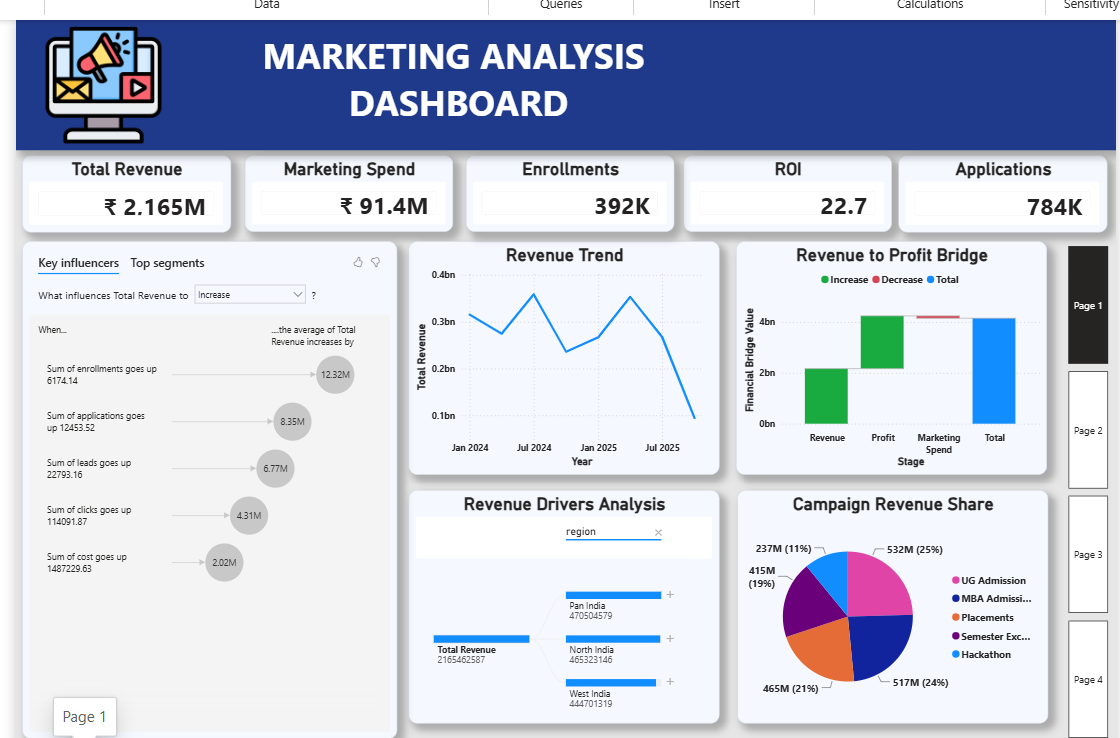

Layout of this report page (visuals, bound fields, positions):
{"tool":"powerbi","page":{"name":"Page 1","canvas":[1500,1000],"ordinal":0},"visuals":[{"type":"textbox","box":[63.3,0,196.7,103.3],"z":0},{"type":"cardVisual","title":"Marketing Spend","fields":{"Data":["campaign_performance_clean.Total Cost"]},"box":[311.9,184.1,284,105],"z":1000},{"type":"cardVisual","title":"ROI","fields":{"Data":["campaign_performance_clean.ROI %"]},"box":[910,184.1,284,105],"z":2000},{"type":"cardVisual","title":"Applications","fields":{"Data":["campaign_performance_clean.Total Applications"]},"box":[1203.1,184.1,284.6,105.7],"z":3000},{"type":"pieChart","title":"Campaign Revenue Share","fields":{"Category":["campaign_performance_clean.campaign_name"],"Y":["campaign_performance_clean.Total Revenue"]},"box":[983.3,640.8,424.3,318.7],"z":4000},{"type":"lineChart","title":"Revenue Trend","fields":{"Y":["campaign_performance_clean.Total Revenue"],"Category":["campaign_performance_clean.campaign_date.Variation.Date Hierarchy.Year","campaign_performance_clean.campaign_date.Variation.Date Hierarchy.Quarter"]},"box":[535.1,301.6,424.3,318.7],"z":5000},{"type":"decompositionTreeVisual","title":"Revenue Drivers Analysis","fields":{"Analyze":["campaign_performance_clean.Total Revenue"],"ExplainBy":["campaign_performance_clean.region","campaign_performance_clean.campaign_name","campaign_performance_clean.platform","campaign_performance_clean.target_audience"]},"box":[535.1,640.8,424,318],"z":6000},{"type":"cardVisual","title":"Total Revenue ","fields":{"Data":["campaign_performance_clean.Total Revenue"]},"box":[8.5,184.1,284.6,105.7],"z":8000},{"type":"cardVisual","title":"Enrollments","fields":{"Data":["campaign_performance_clean.Total Enrollments"]},"box":[613.5,184.1,284,105],"z":9000},{"type":"waterfallChart","title":"Revenue to Profit Bridge","fields":{"Category":["Financial_Bridge.Stage"],"Y":["Financial_Bridge.Financial Bridge Value"]},"box":[981.6,301.6,424.3,318.7],"z":10000},{"type":"textbox","box":[0,0,1499.7,177.2],"z":11000},{"type":"image","box":[15.3,6.8,207.9,163.6],"z":12000},{"type":"textbox","box":[211.3,10.2,783.9,173.8],"z":13000},{"type":"keyDriversVisual","fields":{"Target":["campaign_performance_clean.Total Revenue"],"ExplainBy":["campaign_performance_clean.region","Sum(campaign_performance_clean.clicks)","Sum(campaign_performance_clean.enrollments)","Sum(campaign_performance_clean.applications)","Sum(campaign_performance_clean.leads)","Sum(campaign_performance_clean.cost)","campaign_performance_clean.campaign_name","campaign_performance_clean.target_audience","campaign_performance_clean.platform"]},"box":[8.5,301.6,511.3,678.3],"z":14000},{"type":"pageNavigator","box":[1434.9,308.5,54.5,671.4],"z":14001}]}

Visuals, with their boxes in screenshot pixels (x1, y1, x2, y2):
textbox: <box>66,18,210,93</box>
"Marketing Spend" cardVisual: <box>247,151,454,228</box>
"ROI" cardVisual: <box>683,151,889,228</box>
"Applications" cardVisual: <box>896,151,1103,228</box>
"Campaign Revenue Share" pieChart: <box>736,484,1045,716</box>
"Revenue Trend" lineChart: <box>410,237,719,469</box>
"Revenue Drivers Analysis" decompositionTreeVisual: <box>410,484,718,715</box>
"Total Revenue " cardVisual: <box>27,151,234,228</box>
"Enrollments" cardVisual: <box>467,151,674,228</box>
"Revenue to Profit Bridge" waterfallChart: <box>735,237,1044,469</box>
textbox: <box>20,18,1112,146</box>
image: <box>32,22,183,142</box>
textbox: <box>174,25,745,151</box>
keyDriversVisual - campaign_performance_clean.Total Revenue x campaign_performance_clean.region: <box>27,237,399,731</box>
pageNavigator: <box>1065,242,1104,731</box>
